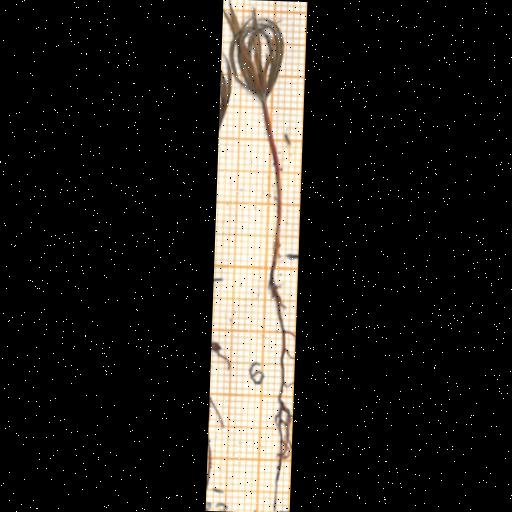flowerPinus: (224, 0, 285, 101)
rootPinus: (270, 278, 291, 509)
stemPinus: (261, 99, 284, 259)
